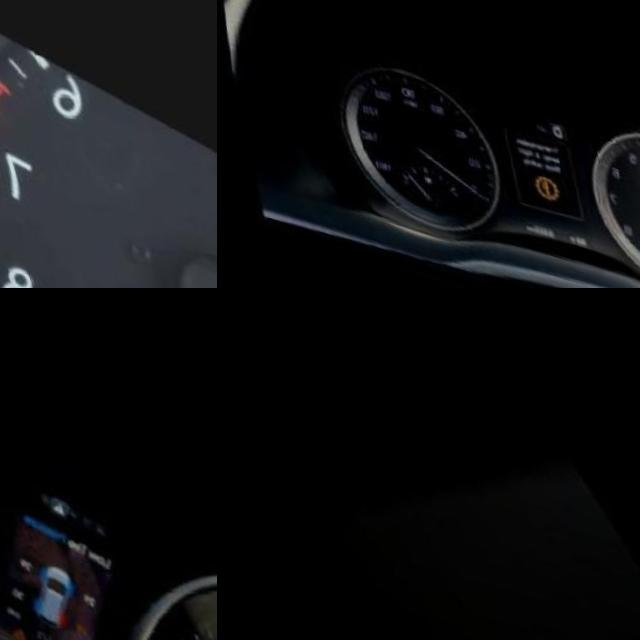Low fuel level: (411, 168, 418, 175)
